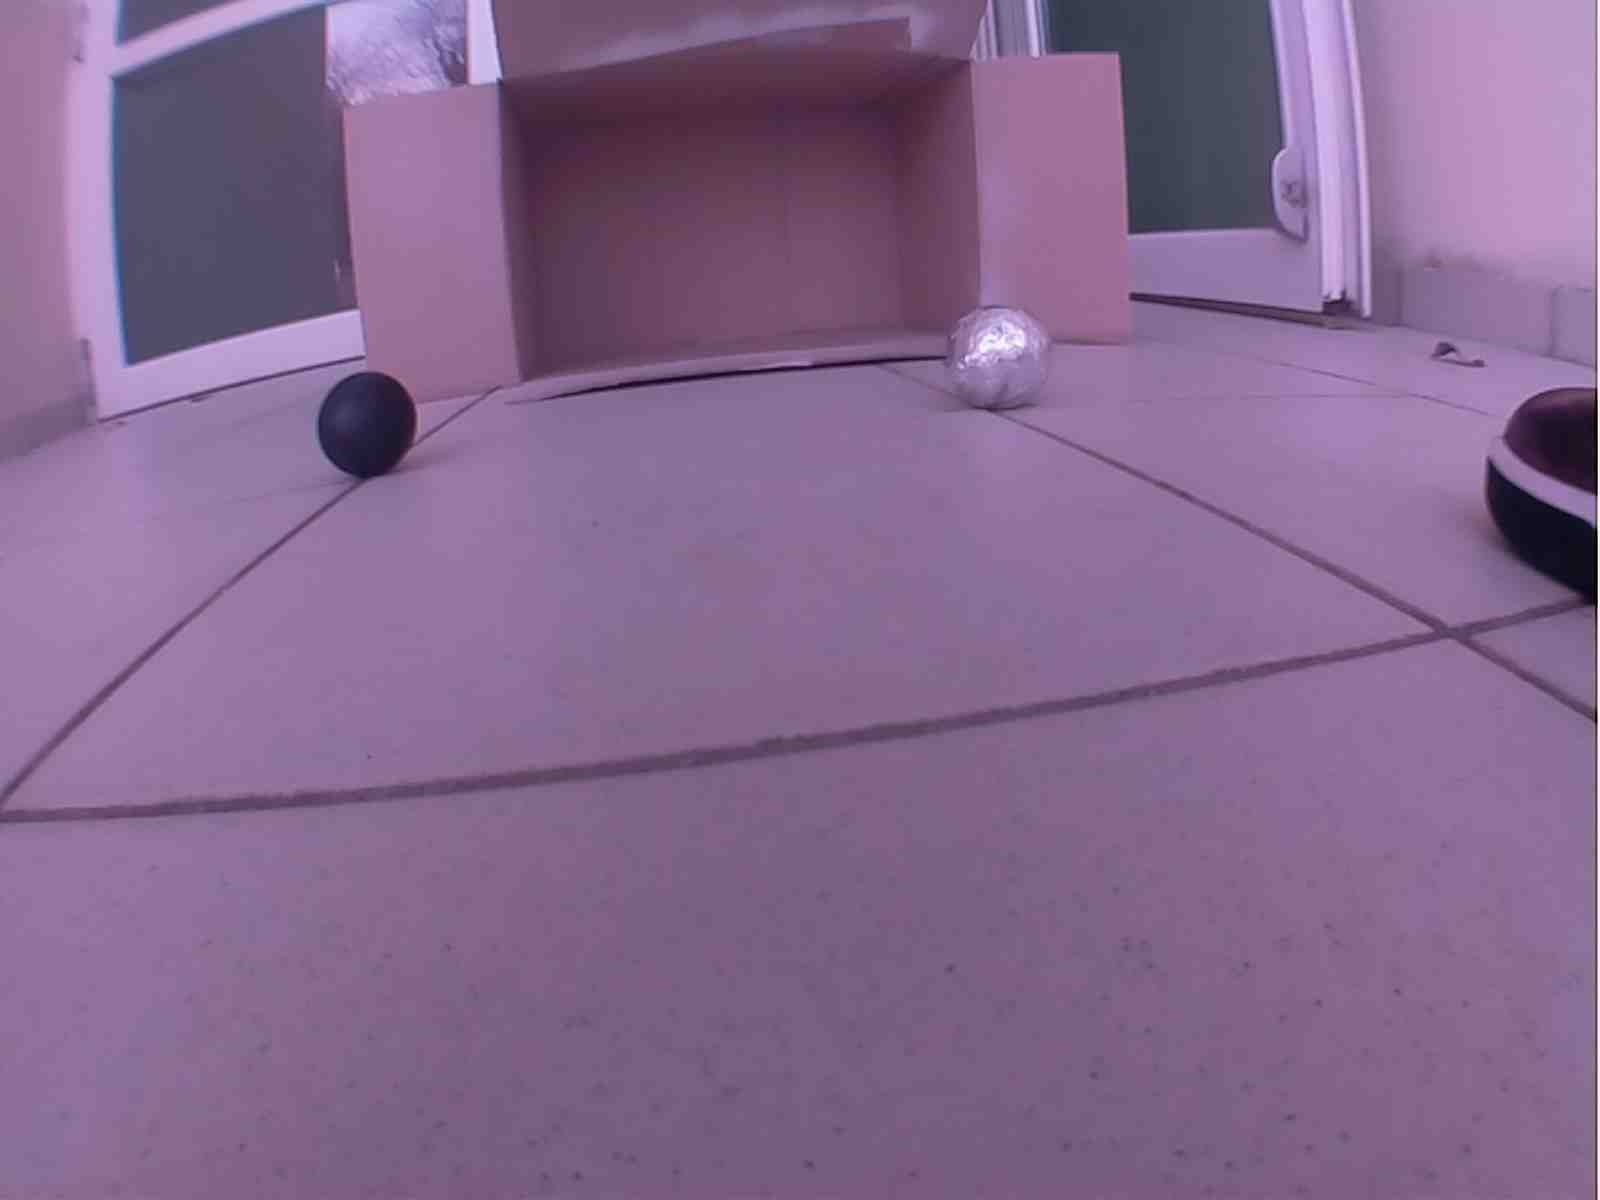bianca: (945, 303, 1054, 415)
nera: (307, 368, 421, 480)
